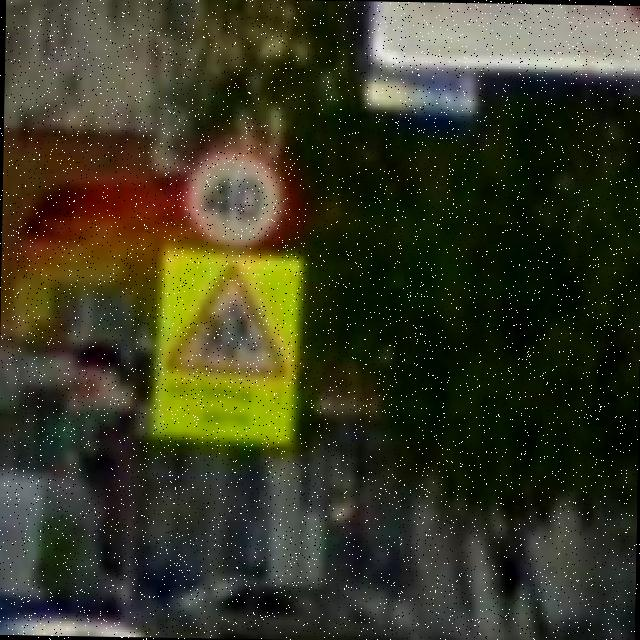Dzieci: (162, 261, 294, 384)
Ograniczenie predkosci do 40: (180, 141, 290, 253)
